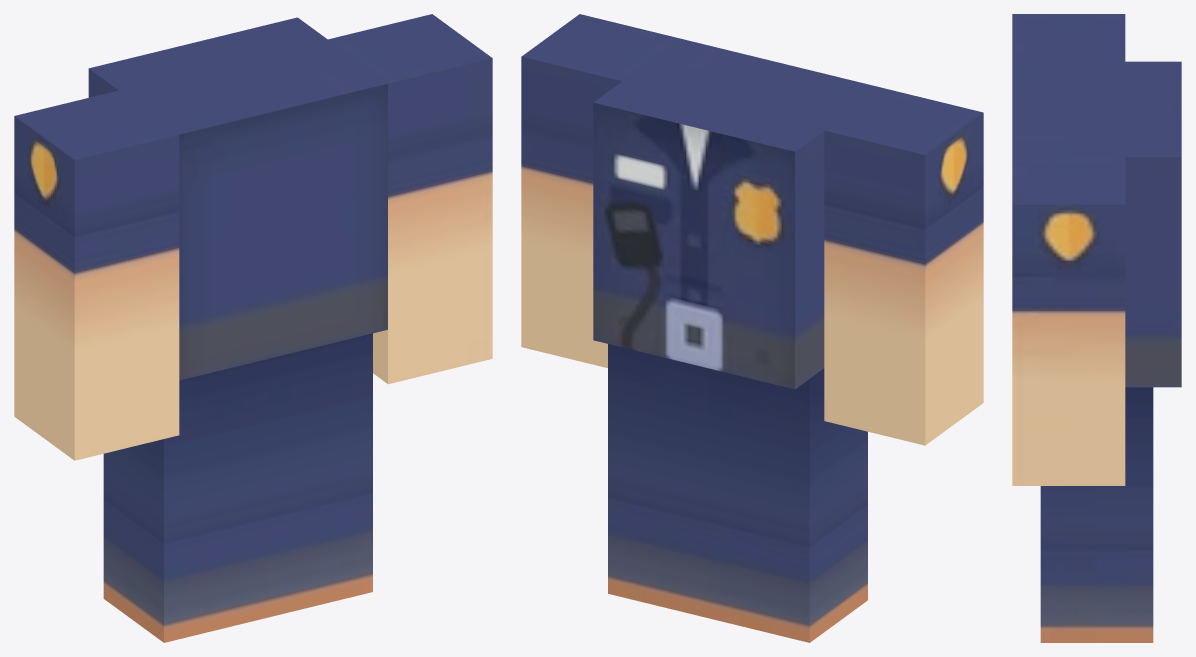
File: blocky-j.glb
The picture shows the model from 3 angles, left to right: view 1: azimuth 30°, elevation 25°; view 2: azimuth 150°, elevation 25°; view 3: azimuth 270°, elevation 25°; orthographic projection. The views are drawn at different scales.
Parts seen in each view (by area): view 1: torso, arm-left, arm-right, leg-left, leg-right; view 2: torso, arm-left, leg-left, arm-right, leg-right; view 3: arm-right, torso, leg-right, arm-left.
Boxes of the visible parts, x1,y1,x2,y2 form: torso: (88, 17, 387, 380); arm-left: (14, 90, 179, 460); arm-right: (328, 14, 492, 384); leg-left: (103, 359, 268, 642); leg-right: (268, 333, 372, 617); torso: (593, 38, 881, 389); arm-left: (824, 88, 983, 445); leg-left: (708, 368, 867, 642); arm-right: (521, 14, 679, 367); leg-right: (608, 344, 708, 618); arm-right: (1012, 157, 1125, 485); torso: (1012, 61, 1181, 387); leg-right: (1040, 387, 1153, 642); arm-left: (1012, 14, 1125, 61).
Bounding box in the file's own units: 1.21 × 1.44 × 0.4537.
Materials: 1 (1 with a texture image).
